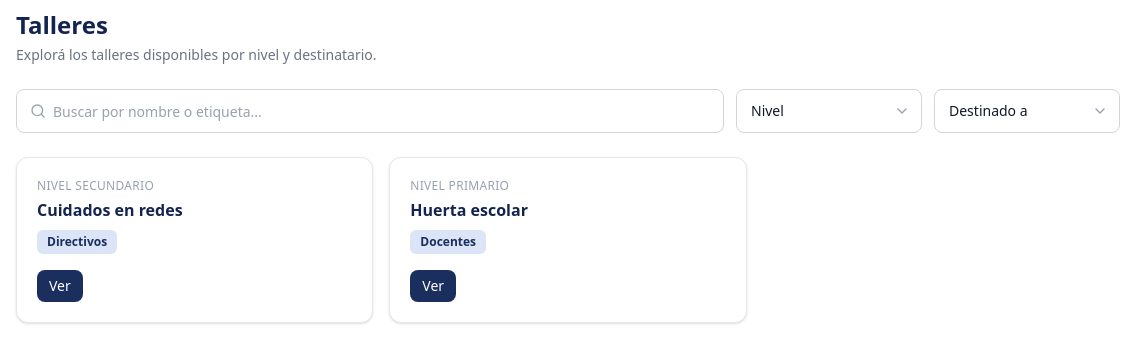
Scenario: TalleresCatalogoPage: filtros › filtra por nivel a través de la categoría del taller
Expected: the heading "Cuidados en redes" is shown, x1=37 y1=199 x2=183 y2=221
Select "Primario" in the 1st dropdown named "Nivel" at (829, 111), box x1=736 y1=89 x2=922 y2=133
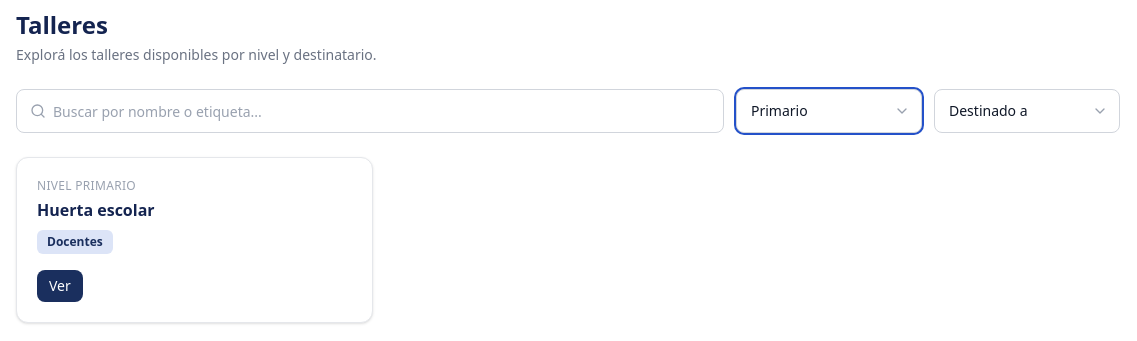
Expected: the heading "Huerta escolar" is shown, x1=37 y1=199 x2=155 y2=221
Now the heading "Cuidados en redes" is gone
